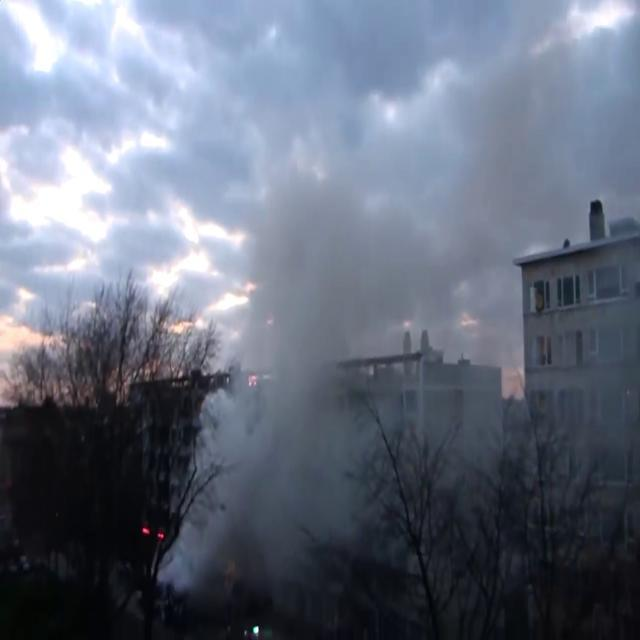Smoke: (170, 100, 472, 594)
